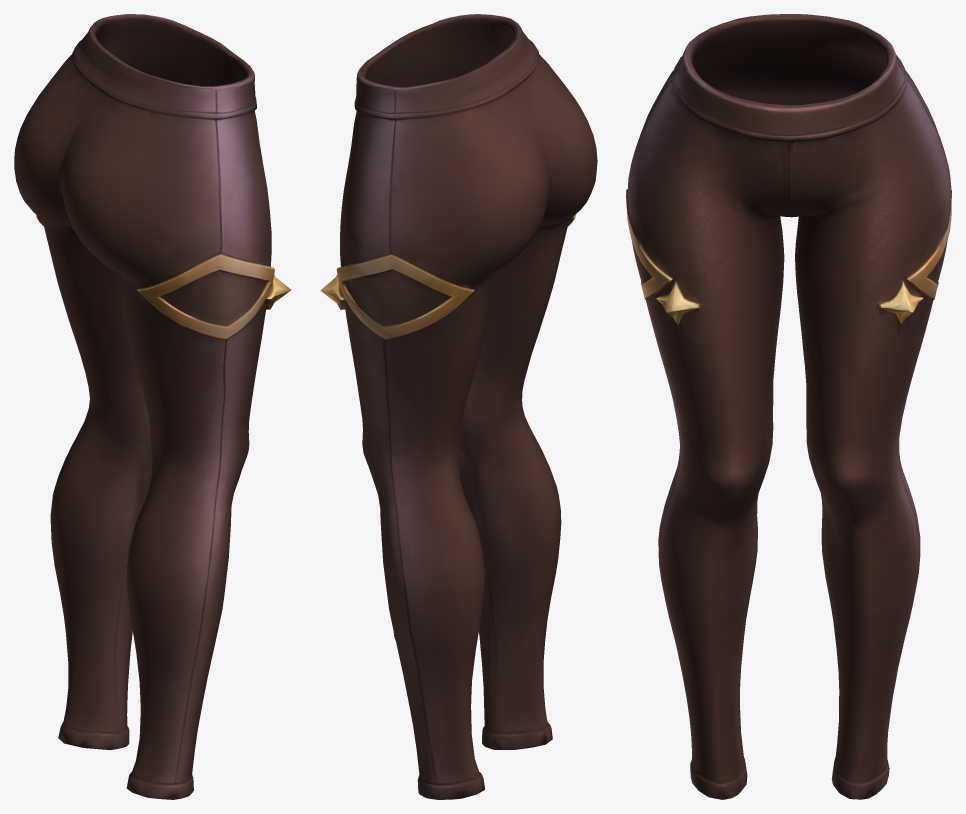
Rendered from Novice_Female_Leggings.glb.
The picture shows the model from 3 angles, left to right: view 1: azimuth 30°, elevation 25°; view 2: azimuth 150°, elevation 25°; view 3: azimuth 270°, elevation 25°; orthographic projection. The views are drawn at different scales.
Parts seen in each view (by area): view 1: tripo_node_f0a0845e-2486-48ca-aa87-508f5779d688; view 2: tripo_node_f0a0845e-2486-48ca-aa87-508f5779d688; view 3: tripo_node_f0a0845e-2486-48ca-aa87-508f5779d688.
Boxes of the visible parts, box(x1,y1,x2,y2) form: tripo_node_f0a0845e-2486-48ca-aa87-508f5779d688: box(14, 14, 291, 799); tripo_node_f0a0845e-2486-48ca-aa87-508f5779d688: box(320, 14, 597, 799); tripo_node_f0a0845e-2486-48ca-aa87-508f5779d688: box(626, 14, 951, 799).
Size of the model in its own units: 0.2666 by 0.9795 by 0.3803.
Materials: 1 (1 with a texture image).
